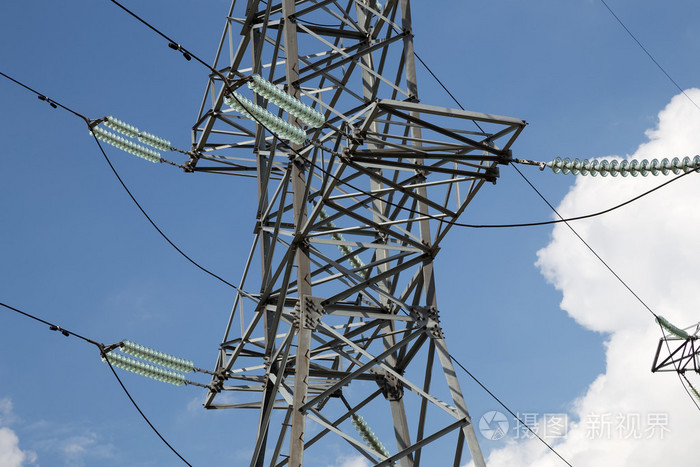insulator: (228, 73, 326, 141), (553, 147, 697, 183), (103, 340, 197, 386), (88, 115, 174, 163)
